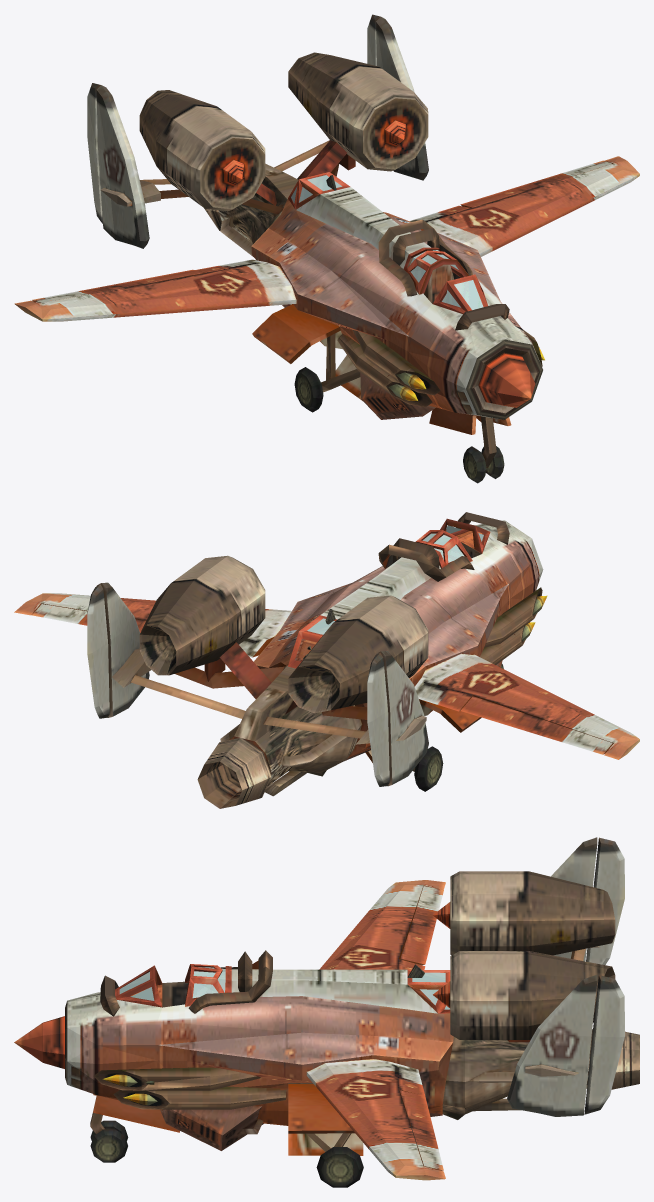
Rendered from VTFTRH.obj.
3 views of the same model, one above another, from view 1: azimuth 30°, elevation 25°; view 2: azimuth 150°, elevation 25°; view 3: azimuth 270°, elevation 25° (orthographic).
Parts seen in each view (by area): view 1: Node 0, Node 31, Node 28, Node 29, Node 4, Node 3; view 2: Node 0, Node 29, Node 30, Node 31, Node 4, Node 28; view 3: Node 0, Node 30, Node 31, Node 29, Node 28, Node 2, Node 1.
Boxes of the visible parts, bbox=[...] form: Node 0: bbox=[14, 17, 639, 467]; Node 31: bbox=[87, 83, 102, 223]; Node 28: bbox=[460, 160, 612, 208]; Node 29: bbox=[32, 269, 204, 302]; Node 4: bbox=[294, 367, 323, 412]; Node 3: bbox=[463, 446, 486, 483]; Node 0: bbox=[14, 512, 639, 808]; Node 29: bbox=[460, 696, 612, 754]; Node 30: bbox=[87, 584, 109, 718]; Node 31: bbox=[367, 652, 389, 786]; Node 4: bbox=[414, 746, 443, 791]; Node 28: bbox=[32, 604, 145, 632]; Node 0: bbox=[14, 837, 639, 1180]; Node 30: bbox=[584, 975, 624, 1114]; Node 31: bbox=[586, 837, 624, 964]; Node 29: bbox=[400, 886, 443, 965]; Node 28: bbox=[399, 1090, 443, 1170]; Node 2: bbox=[316, 1147, 363, 1187]; Node 1: bbox=[90, 1129, 127, 1162].
Bounding box in the file's own units: 11.88 × 4.71 × 10.59.
Materials: 17 (17 with a texture image).
